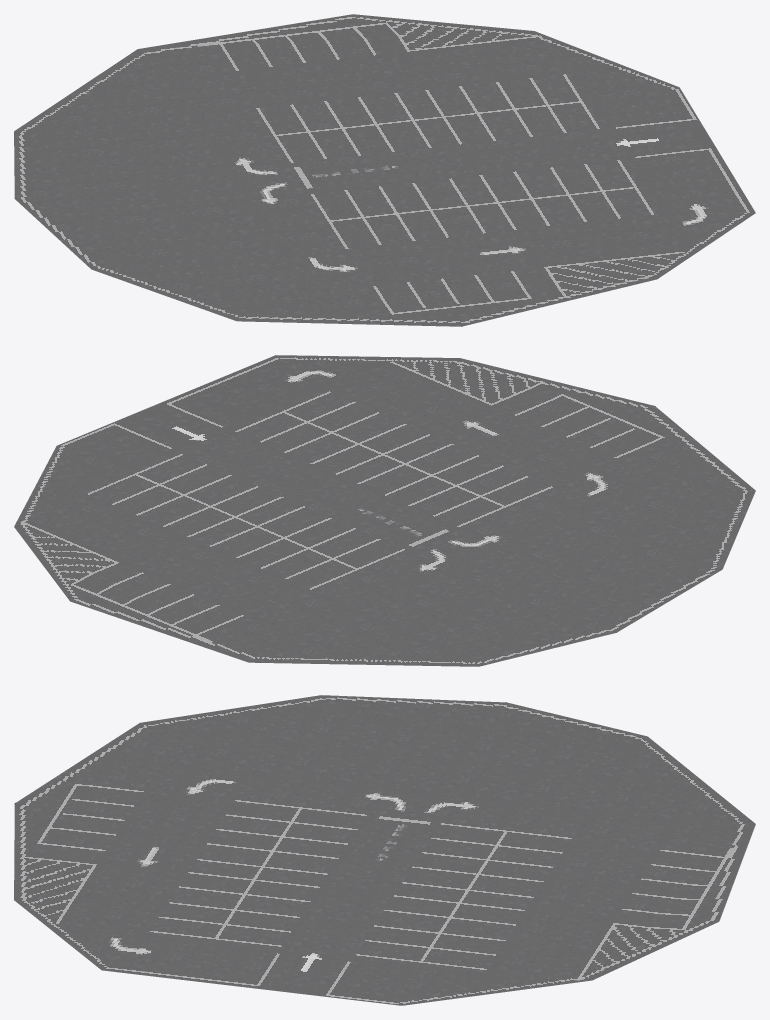
File: kd_stage_1366d7_0_3.glb
3 views of the same model, one above another, from view 1: azimuth 30°, elevation 25°; view 2: azimuth 150°, elevation 25°; view 3: azimuth 270°, elevation 25° (orthographic).
Parts seen in each view (by area): view 1: kd_stage_1366d7_0_3; view 2: kd_stage_1366d7_0_3; view 3: kd_stage_1366d7_0_3.
Boxes of the visible parts, box(x1,y1,x2,y2) form: kd_stage_1366d7_0_3: box(14, 14, 755, 326); kd_stage_1366d7_0_3: box(14, 355, 755, 666); kd_stage_1366d7_0_3: box(14, 695, 755, 1005).
Size of the model in its own units: 46.37 by 9.54e-06 by 46.8.
1 material, 1 textured.
